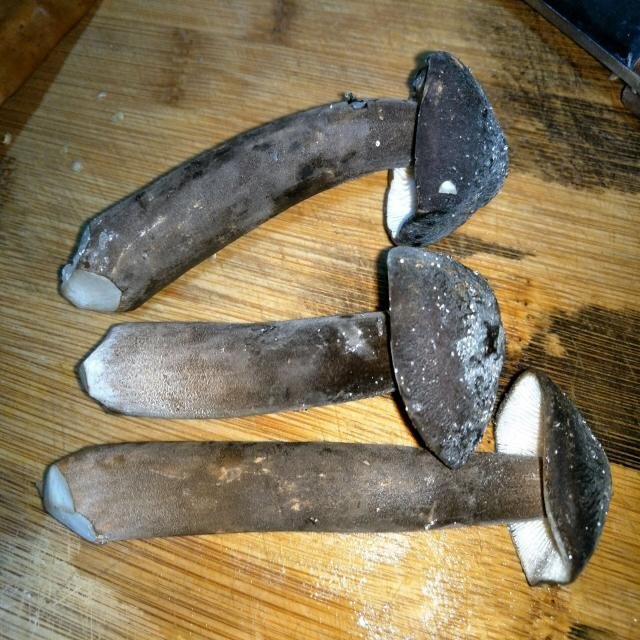Collybia albuminosa: (39, 370, 614, 583), (56, 52, 509, 312), (77, 246, 505, 464)
